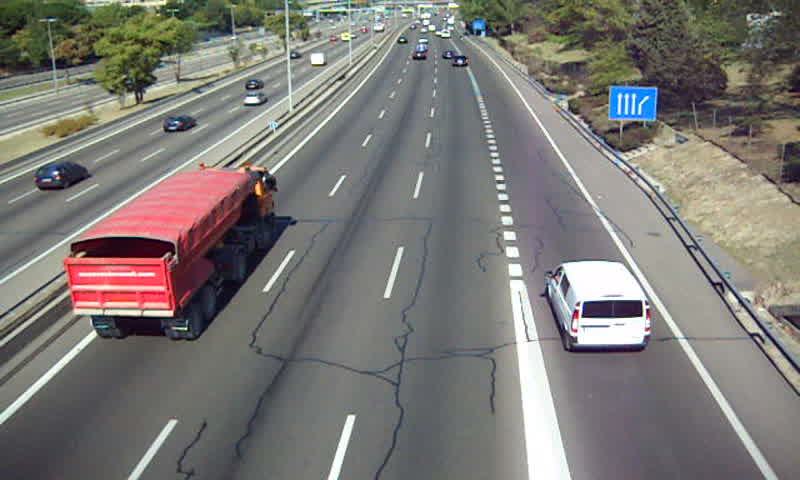car: (451, 55, 468, 68)
truck: (65, 166, 276, 338)
van: (546, 261, 649, 352)
